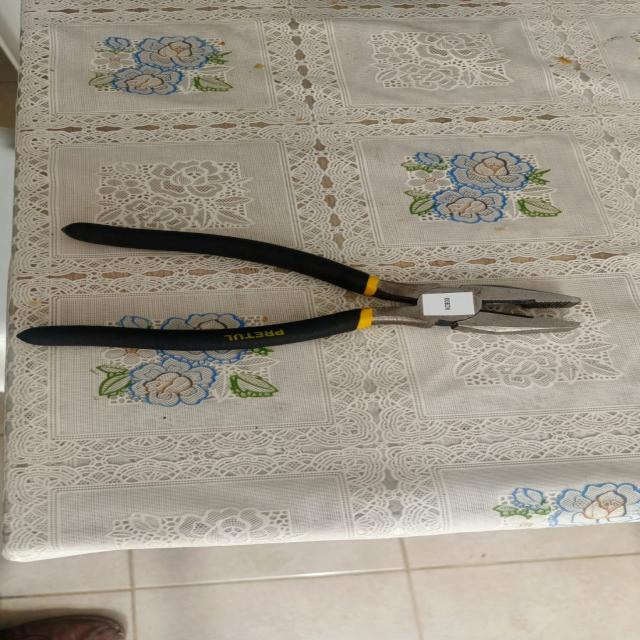alicate: (12, 207, 586, 372)
